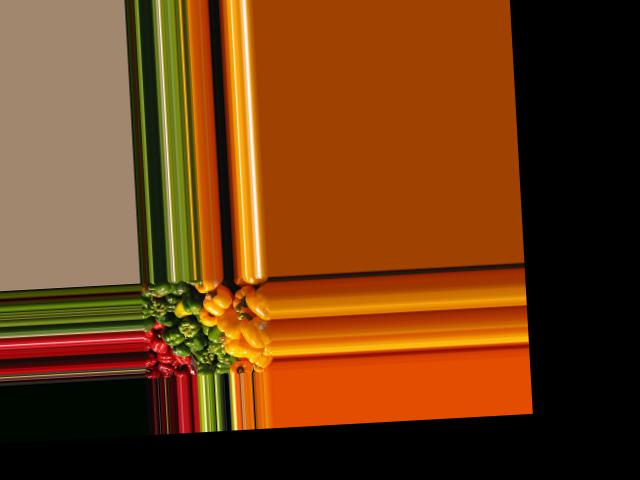bell_pepper: (140, 280, 164, 298)
